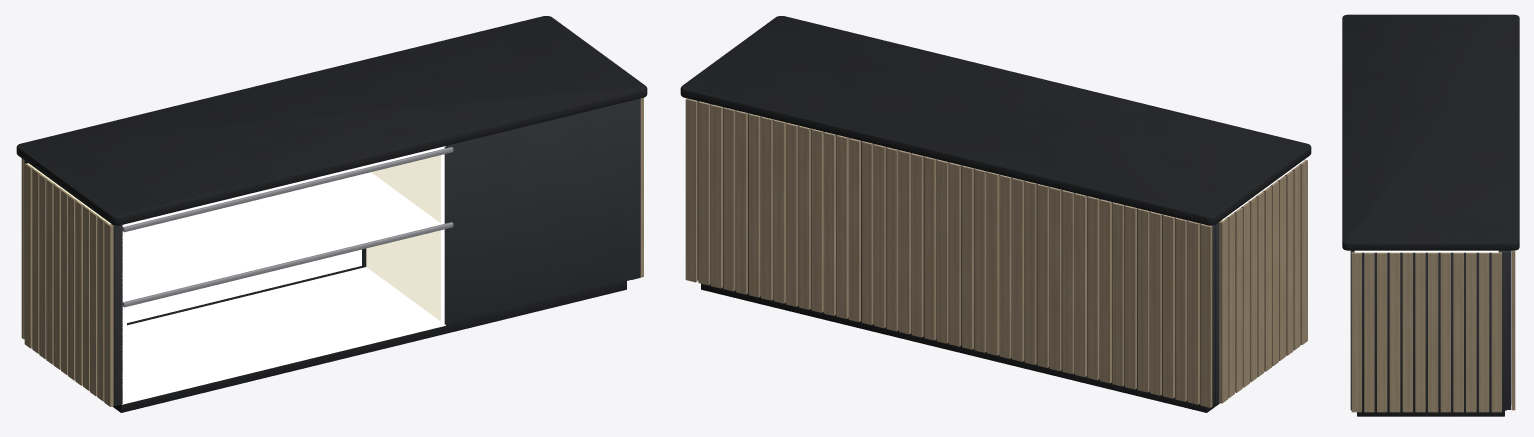
File: checkout_counter.glb
3 renders of one model, left to right at view 1: azimuth 30°, elevation 25°; view 2: azimuth 150°, elevation 25°; view 3: azimuth 270°, elevation 25°, orthographic. The views are drawn at different scales.
Visible parts, largest first — view 1: Countertop, CabinetRight, ShelfFloor, ShelfMid, SlatsEnd_L, ShelfSide_0.32, Plinth, ShelfBack, ShelfLipTop, ShelfLipMid, PanelEndLeft, ShelfTopLine (+4 smaller); view 2: SlatsFront, Countertop, SlatsEnd_L, PanelCustomer, Plinth, PanelEndLeft; view 3: Countertop, SlatsEnd_R, PanelEndRight, Plinth, PanelCustomer, SlatsFront, LED_EndR.
Part boxes in pixels (<box>): Countertop: <box>16,16,647,225</box>; CabinetRight: <box>362,99,637,324</box>; ShelfFloor: <box>124,267,440,403</box>; ShelfMid: <box>125,172,441,301</box>; SlatsEnd_L: <box>24,163,113,406</box>; ShelfSide_0.32: <box>366,146,445,326</box>; Plinth: <box>113,266,626,412</box>; ShelfBack: <box>127,249,361,322</box>; ShelfLipTop: <box>122,147,453,232</box>; ShelfLipMid: <box>122,222,453,307</box>; PanelEndLeft: <box>25,161,122,405</box>; ShelfTopLine: <box>125,147,440,225</box>; SlatsFront: <box>685,98,1212,407</box>; Countertop: <box>680,16,1311,225</box>; SlatsEnd_L: <box>1219,159,1307,403</box>; PanelCustomer: <box>697,101,1214,405</box>; Plinth: <box>701,283,1219,412</box>; PanelEndLeft: <box>1215,222,1218,404</box>; Countertop: <box>1342,14,1519,250</box>; SlatsEnd_R: <box>1351,252,1501,412</box>; PanelEndRight: <box>1350,250,1507,410</box>; Plinth: <box>1357,410,1504,416</box>; PanelCustomer: <box>1504,250,1511,409</box>; SlatsFront: <box>1511,250,1515,410</box>; LED_EndR: <box>1354,250,1498,252</box>.
Size of the model in its own units: 2.6 by 0.95 by 0.85.
7 materials, 4 textured.
